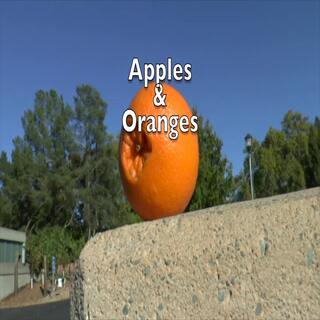orange: (108, 81, 207, 223)
